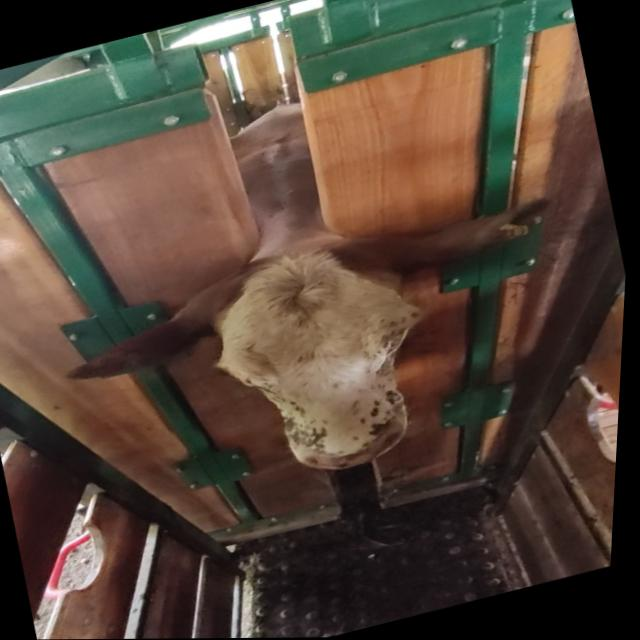cowFace: (194, 220, 458, 492)
